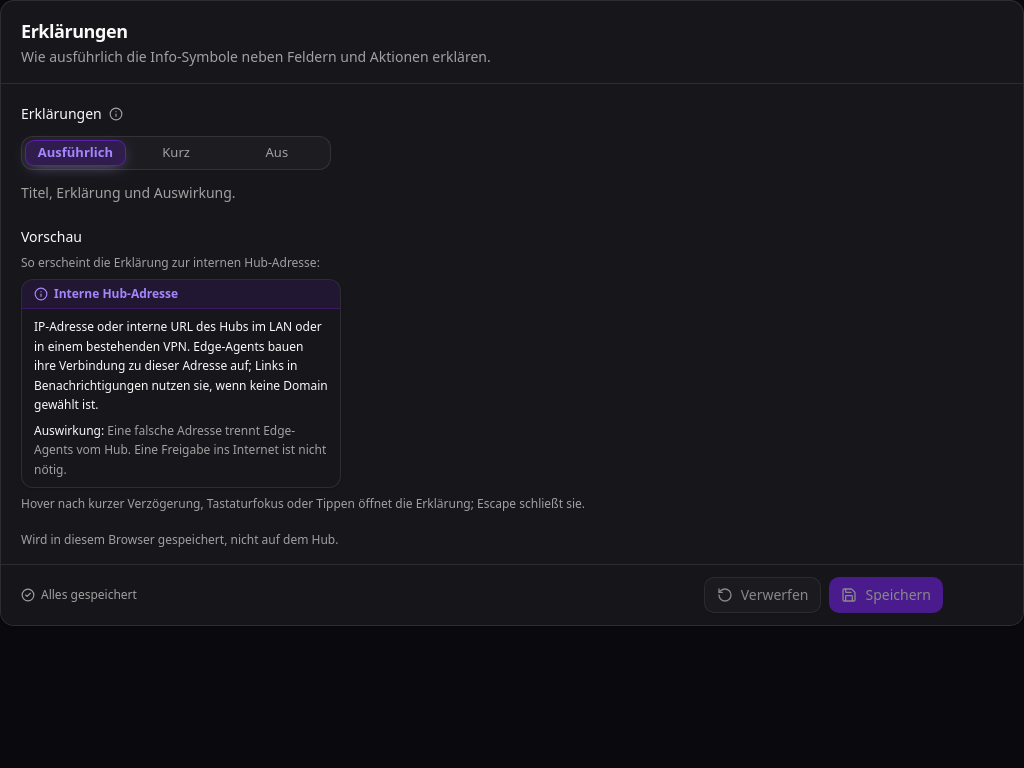
Test: explanation settings › keeps the mode as a draft until Save, discards it and stores it in this browser
Click the radio button labelled "Kurz".
click(176, 153)  # box top-left (126, 140), bottom-right (226, 166)
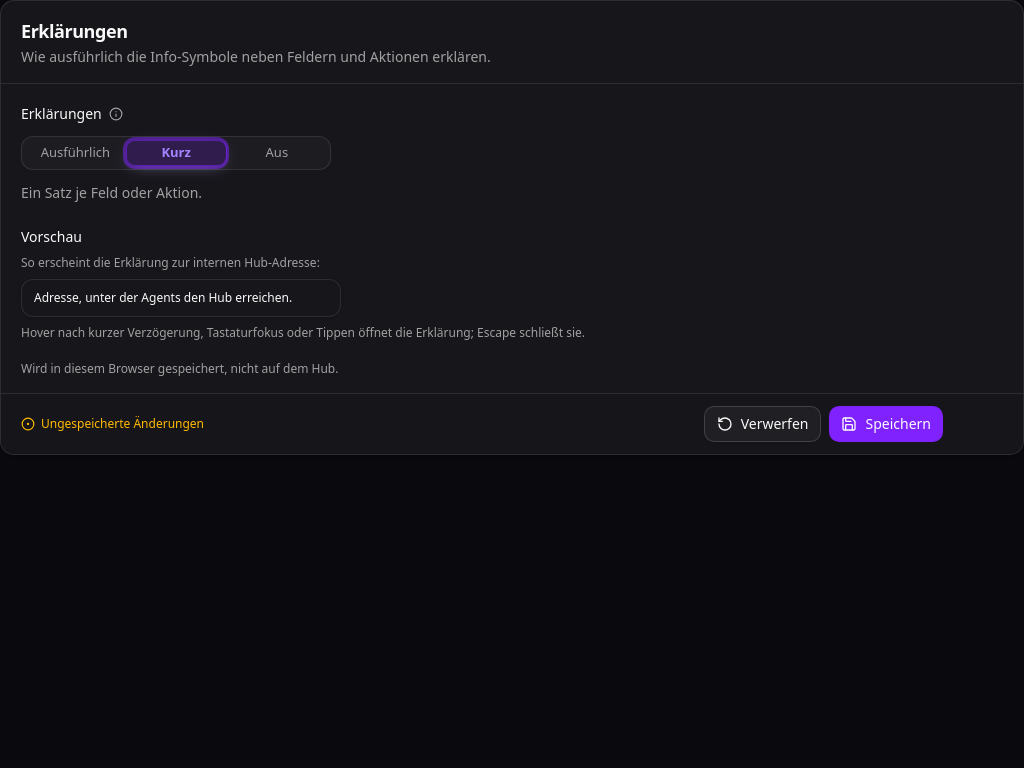
Check: the message reads "Ungespeicherte Änderungen", box top-left (41, 414), bottom-right (204, 432)
Click the button "Verwerfen".
click(762, 424)  # box top-left (704, 406), bottom-right (821, 442)
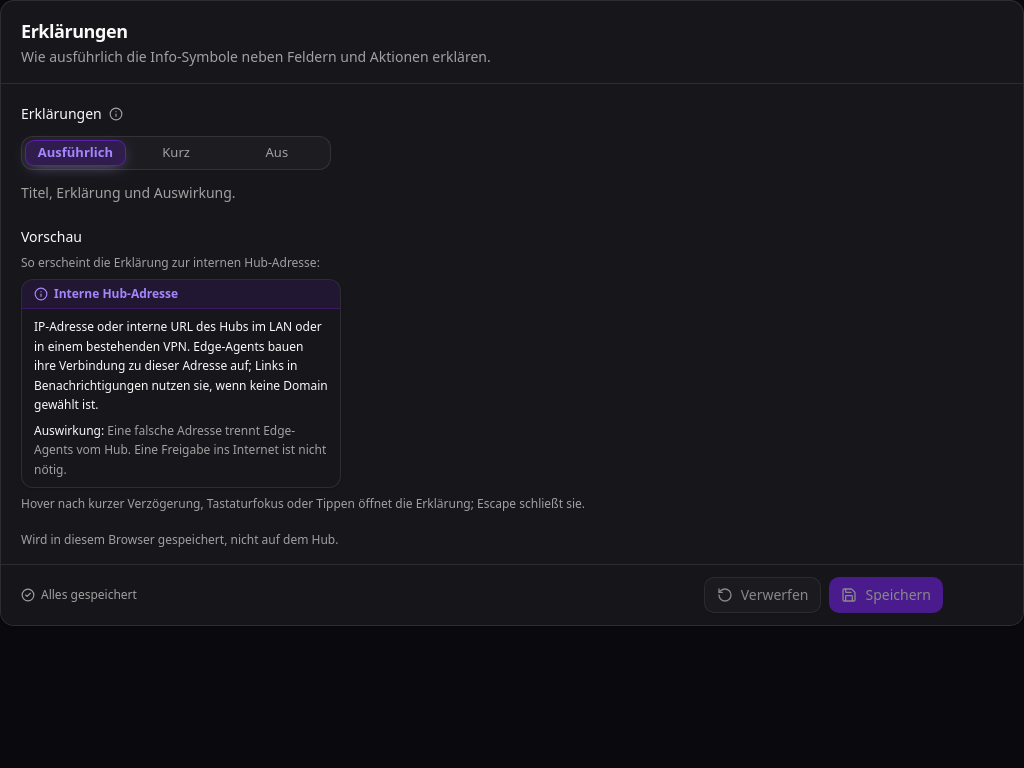
Check: the radio button labelled "Ausführlich" is checked, box top-left (25, 140), bottom-right (126, 166)
Click the radio button labelled "Aus".
click(277, 153)  # box top-left (226, 140), bottom-right (327, 166)
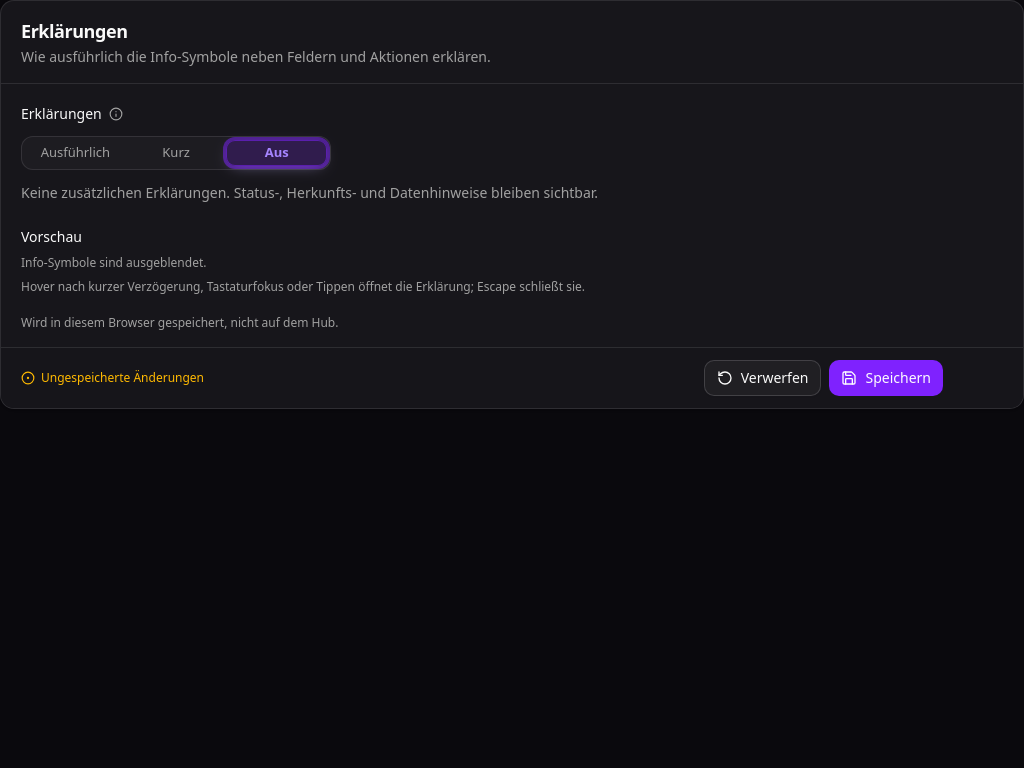
Click the button "Speichern".
click(886, 378)  # box top-left (830, 360), bottom-right (943, 396)
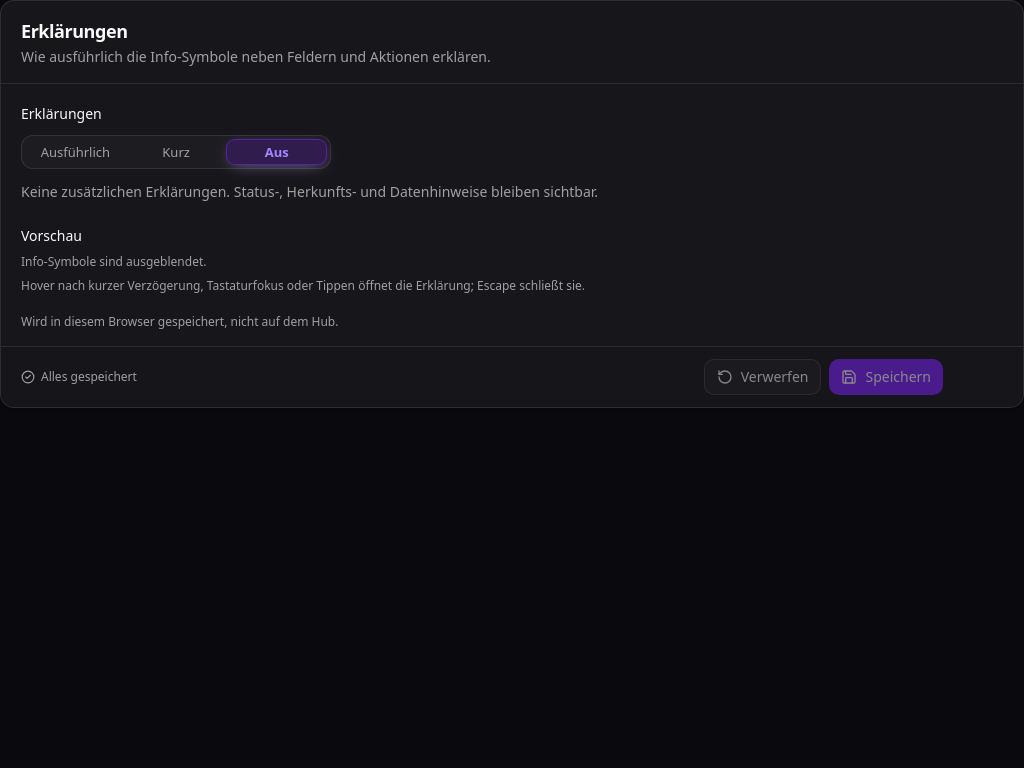
Check: the message reads "Alles gespeichert", box top-left (41, 368), bottom-right (137, 385)
